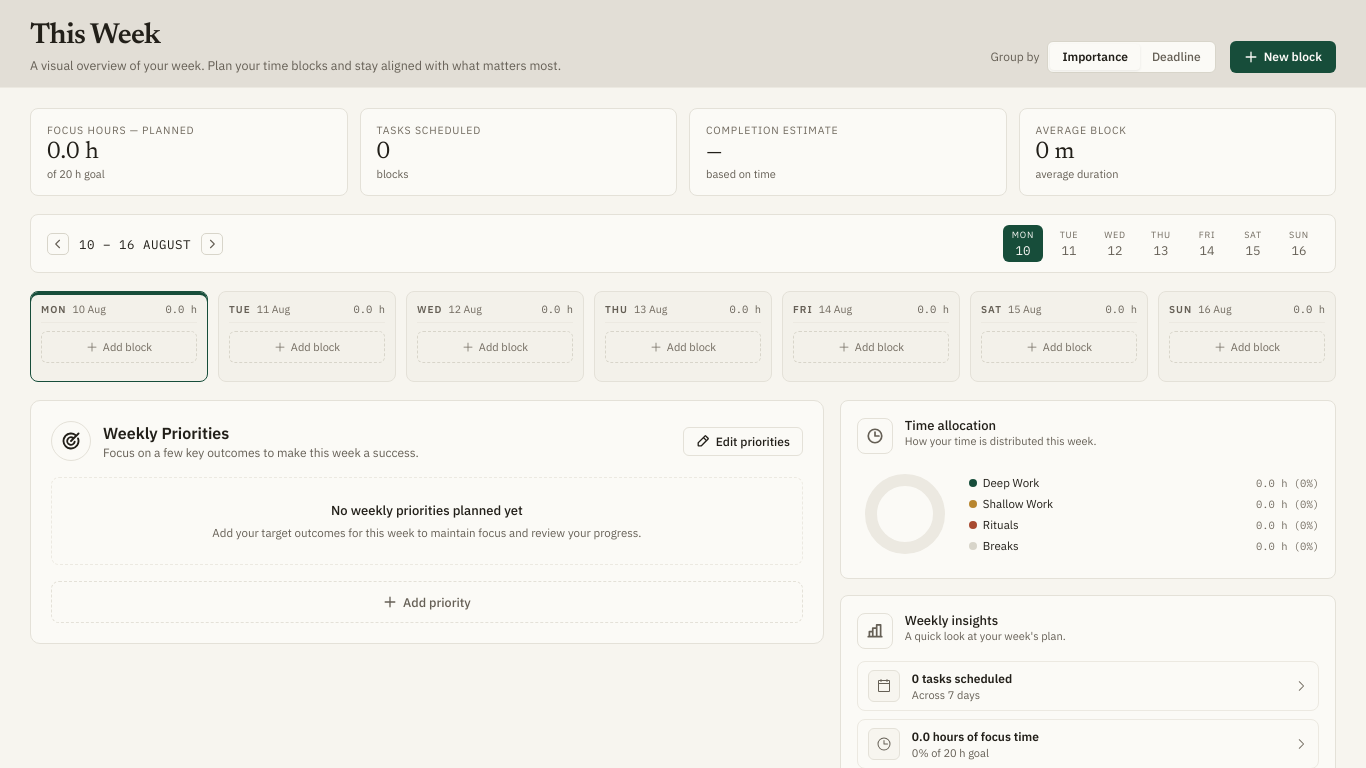
it: task planning release flows › WeekPlanView › + Add block on a day column opens the composer for that day
Click the button "Add block" below "12 Aug" at (495, 347), box [417,331,573,363]
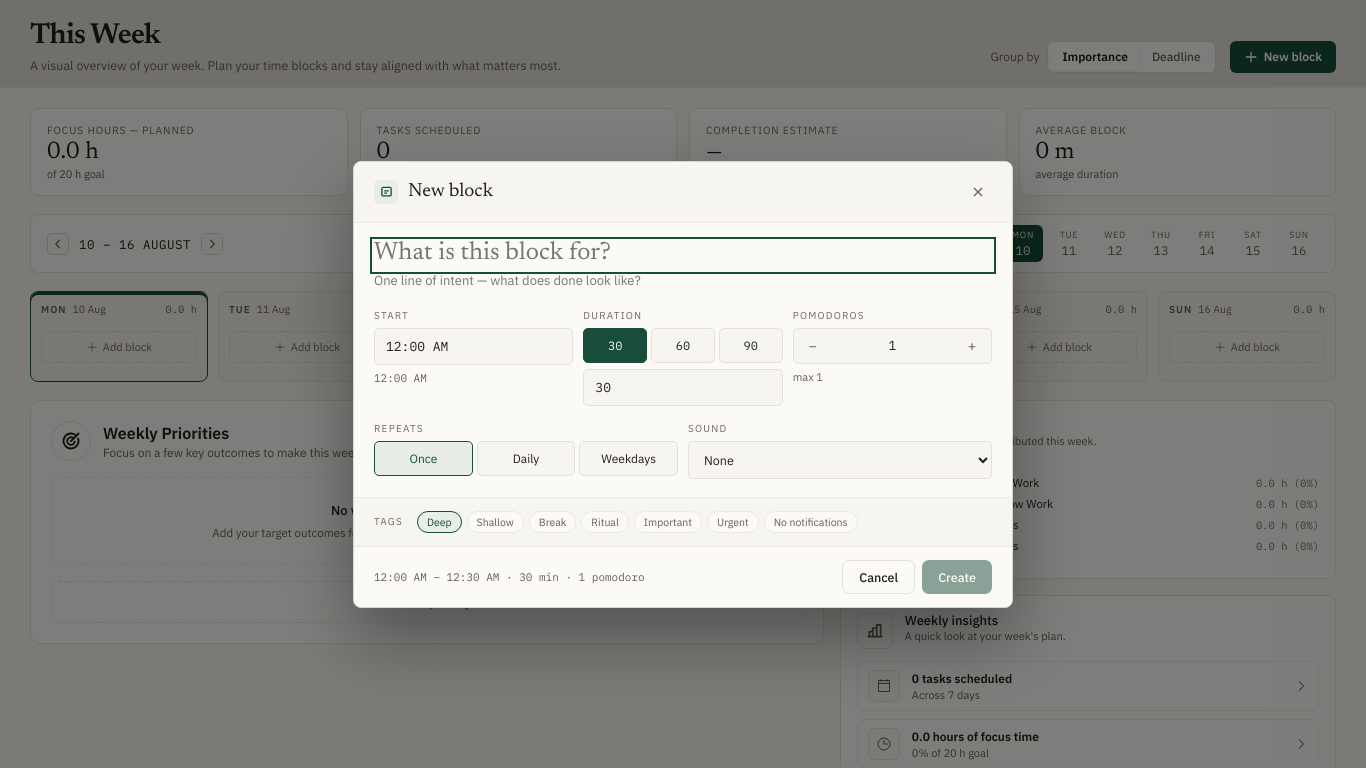
Expected: the dialog is shown, [353,160,1013,608]
